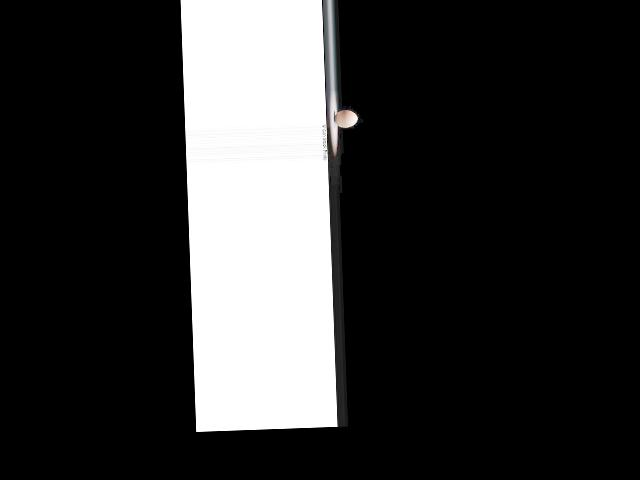egg: (333, 109, 357, 128)
